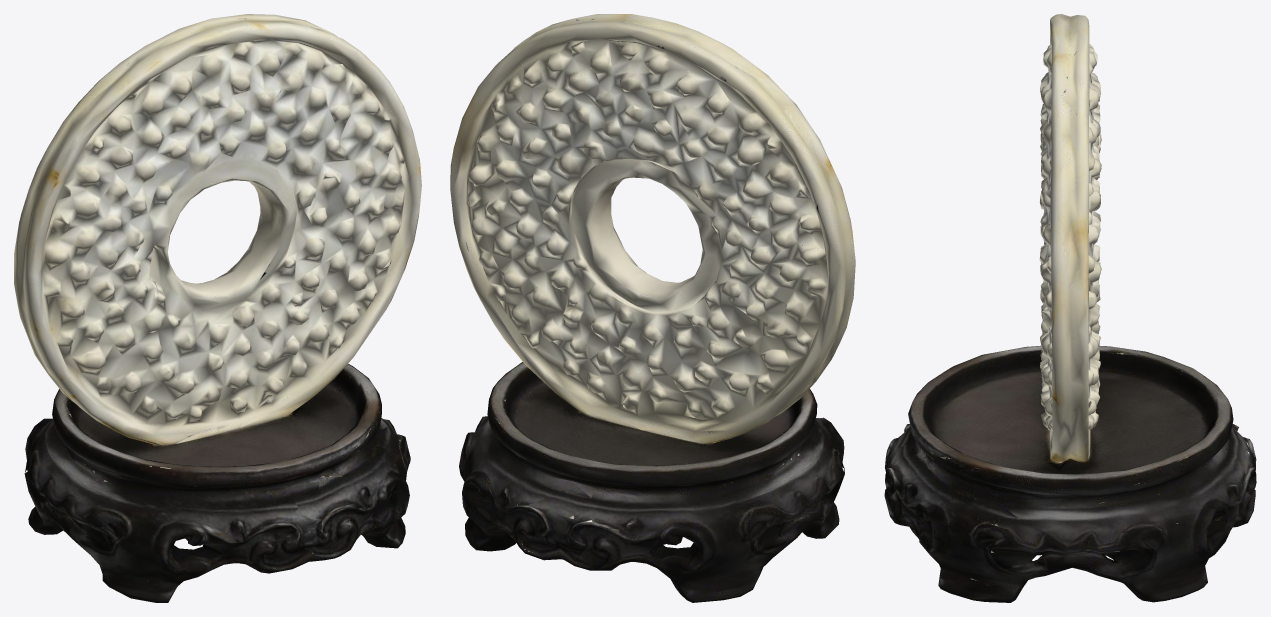
File: prop_jade.glb
3 renders of one model, left to right at view 1: azimuth 30°, elevation 25°; view 2: azimuth 150°, elevation 25°; view 3: azimuth 270°, elevation 25°, orthographic.
Parts seen in each view (by area): view 1: Mesh; view 2: Mesh; view 3: Mesh.
Boxes of the visible parts, x1,y1,x2,y2 form: Mesh: (14,14,421,602); Mesh: (450,14,855,602); Mesh: (884,14,1256,602).
Bounding box in the file's own units: 0.8164 × 1 × 0.6772.
1 material, 1 textured.
